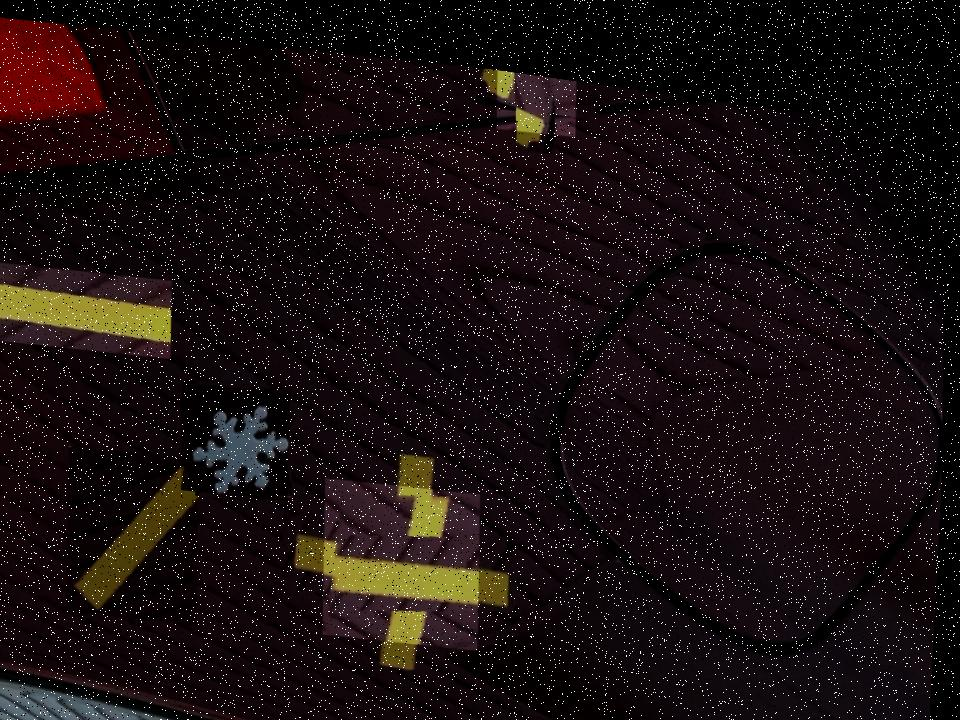dent: (181, 372, 297, 495)
scratch: (323, 461, 489, 640), (67, 438, 210, 622), (0, 254, 178, 360), (495, 55, 578, 122)
